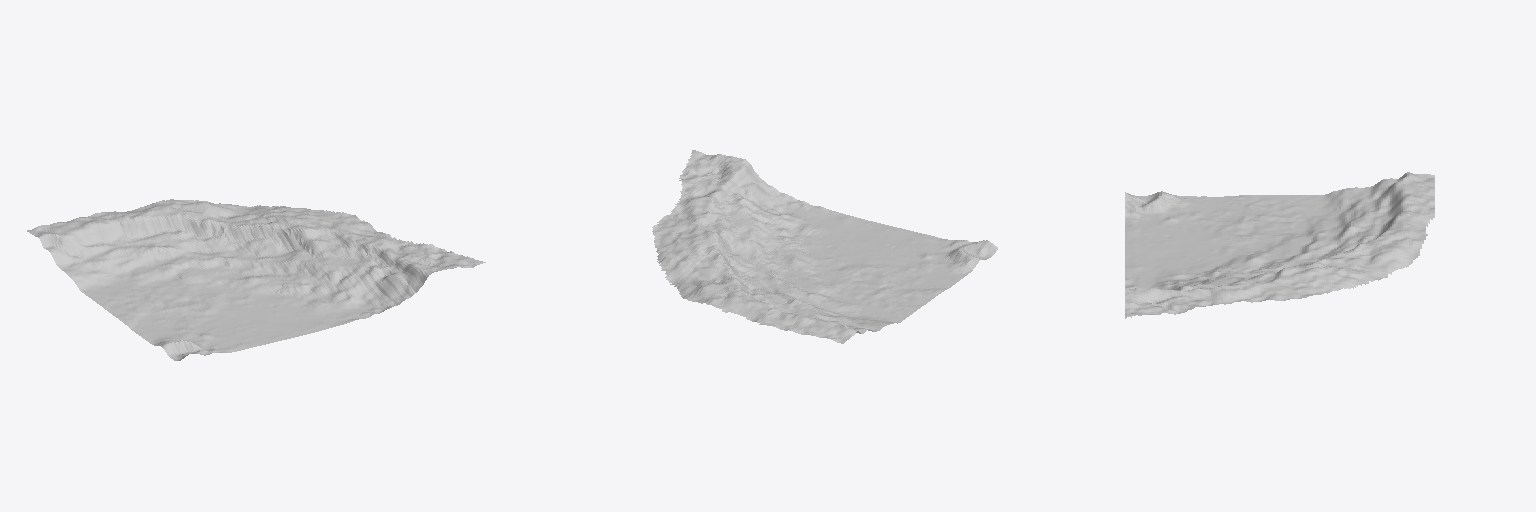
The model's file is landscape1_1.obj.
The picture shows the model from 3 angles: view 1: azimuth 30°, elevation 25°; view 2: azimuth 150°, elevation 25°; view 3: azimuth 270°, elevation 25°; orthographic projection.
Parts seen in each view (by area): view 1: landscape1; view 2: landscape1; view 3: landscape1.
Boxes of the visible parts, <box> form: landscape1: <box>27,199,485,360</box>; landscape1: <box>652,150,997,343</box>; landscape1: <box>1125,172,1434,318</box>.
Size of the model in its own units: 215 by 21.13 by 187.